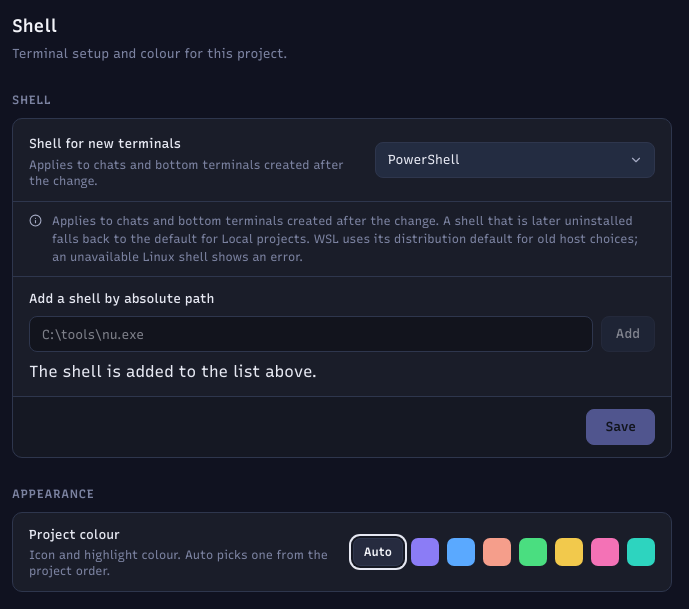
Scenario: ShellTab › blocks rapid double activation of save, disables button during mutation, and unlocks on error
Select "Command Prompt" in the dropdown with test id "settings-shell-select" at (515, 160), box [375, 142, 655, 178]
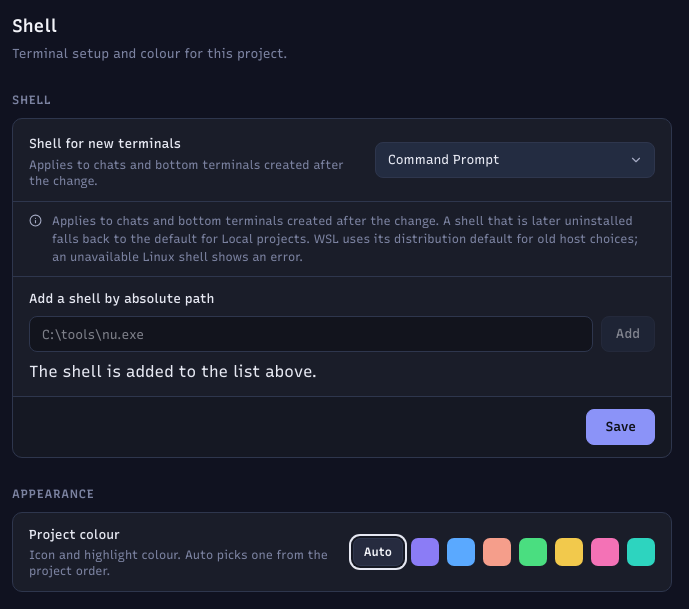
Expected: the button with test id "settings-shell-save" is enabled
Click the button with test id "settings-shell-save" at (621, 427), box [586, 409, 655, 445]
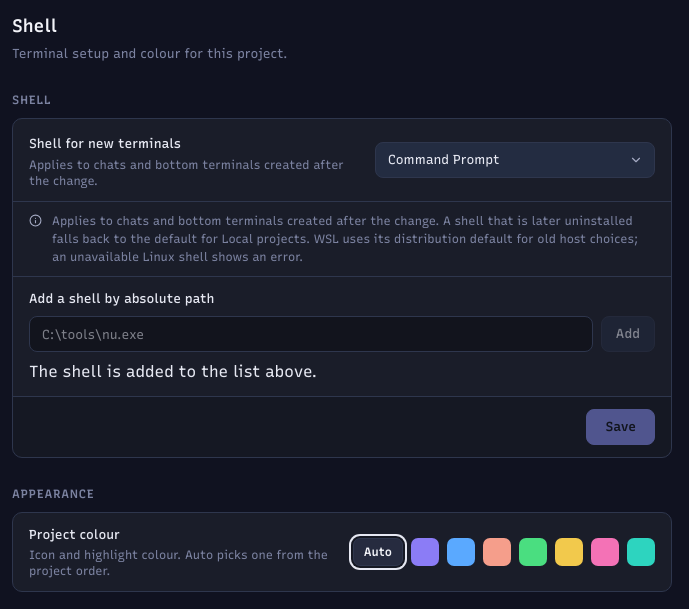
Expected: the button with test id "settings-shell-save" is disabled
Click the button with test id "settings-shell-save" at (621, 427), box [586, 409, 655, 445]
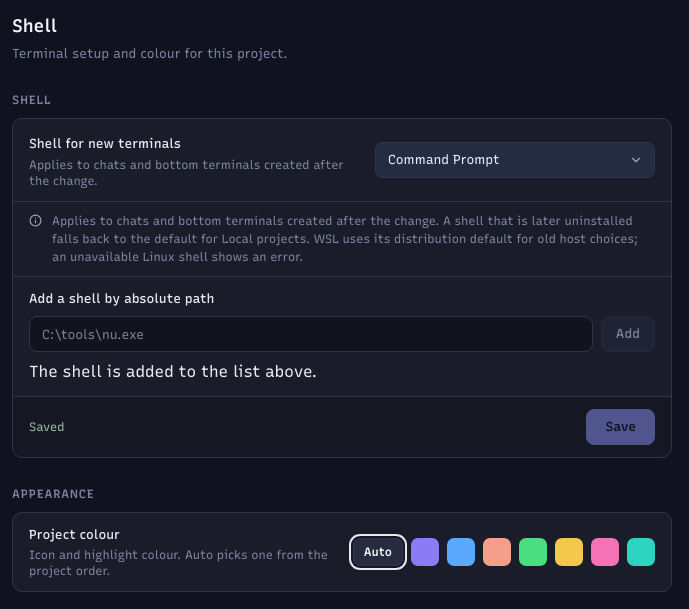
Expected: the text "Saved" is shown, [29, 420, 64, 434]
Select "PowerShell" in the dropdown with test id "settings-shell-select" at (515, 160), box [375, 142, 655, 178]
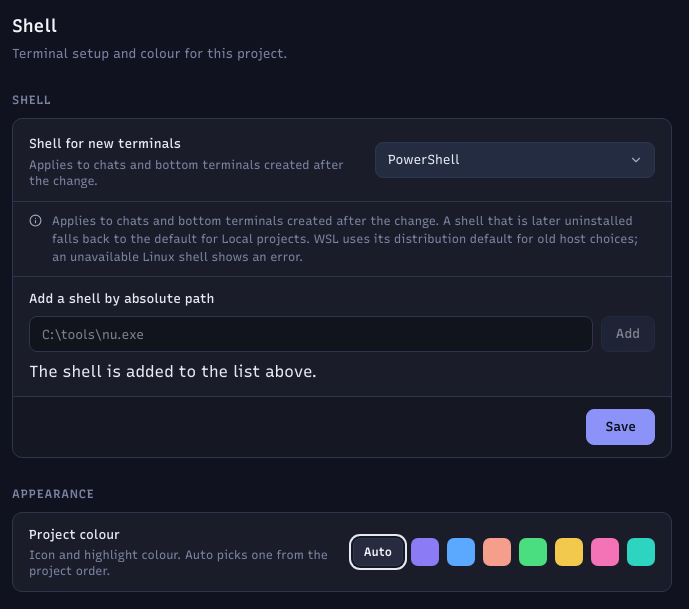
Expected: the button with test id "settings-shell-save" is enabled
Click the button with test id "settings-shell-save" at (621, 427), box [586, 409, 655, 445]
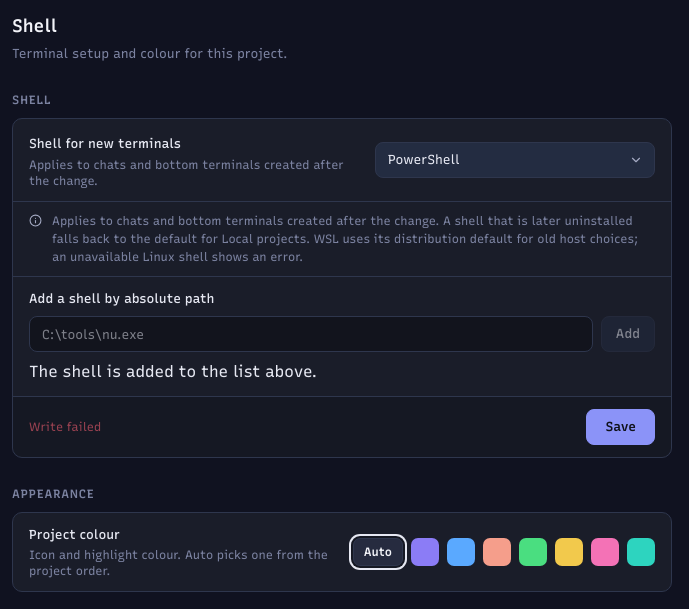
Expected: the button with test id "settings-shell-save" is enabled, [586, 409, 655, 445]
Expected: the text "Write failed" is shown, [29, 420, 101, 434]
